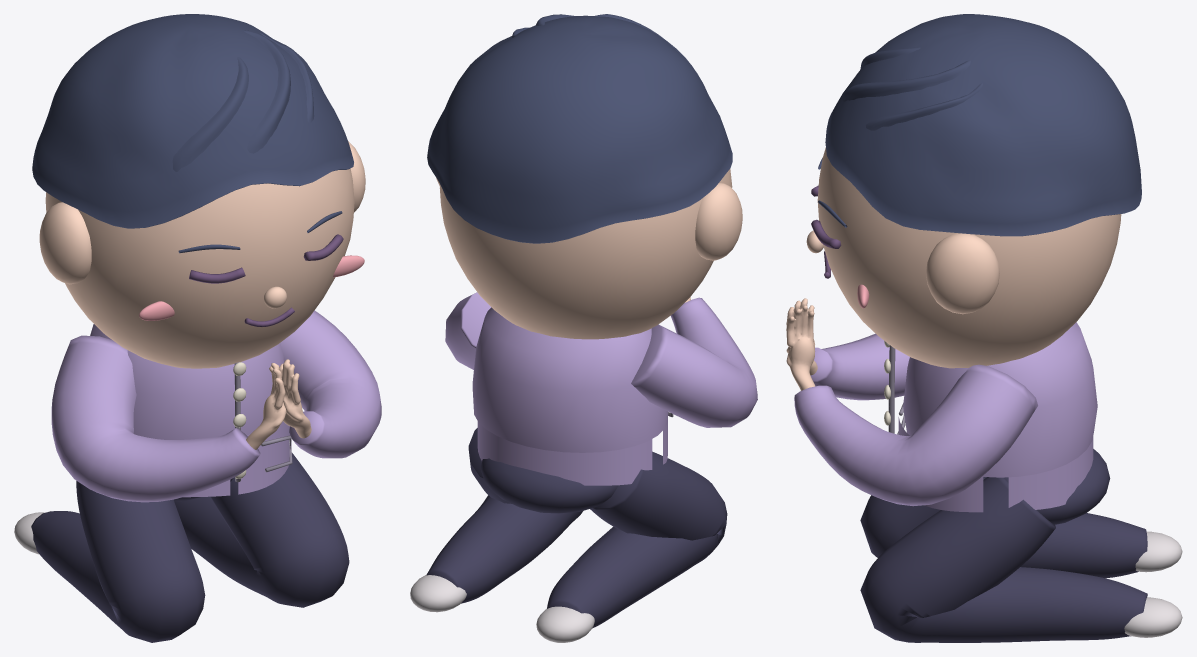
File: meditator_male_kneel_prayer_undercut_p07a.glb
3 renders of one model, left to right at view 1: azimuth 30°, elevation 25°; view 2: azimuth 150°, elevation 25°; view 3: azimuth 270°, elevation 25°, orthographic. The views are drawn at different scales.
Visible parts, largest first — view 1: hair_neat_male_gentle_undercut_p07a_object, skin_rose_cream_UpperBodyBreath_object, ao_ba_ba_top_UpperBodyBreath_object, ao_ba_ba_pants_SeatRoot_object, eyes_mauve_UpperBodyBreath_object, skin_blush_UpperBodyBreath_object, sandal_trim_SeatRoot_object, ao_ba_ba_placket_UpperBodyBreath_object; view 2: hair_neat_male_gentle_undercut_p07a_object, ao_ba_ba_top_UpperBodyBreath_object, ao_ba_ba_pants_SeatRoot_object, skin_rose_cream_UpperBodyBreath_object, sandal_trim_SeatRoot_object; view 3: hair_neat_male_gentle_undercut_p07a_object, ao_ba_ba_top_UpperBodyBreath_object, ao_ba_ba_pants_SeatRoot_object, skin_rose_cream_UpperBodyBreath_object, sandal_trim_SeatRoot_object, ao_ba_ba_placket_UpperBodyBreath_object, eyes_mauve_UpperBodyBreath_object.
Part boxes in pixels (<box>): hair_neat_male_gentle_undercut_p07a_object: <box>32,14,353,253</box>; skin_rose_cream_UpperBodyBreath_object: <box>39,141,365,449</box>; ao_ba_ba_top_UpperBodyBreath_object: <box>51,310,381,502</box>; ao_ba_ba_pants_SeatRoot_object: <box>31,453,349,642</box>; eyes_mauve_UpperBodyBreath_object: <box>189,234,343,326</box>; skin_blush_UpperBodyBreath_object: <box>139,255,364,320</box>; sandal_trim_SeatRoot_object: <box>14,512,44,554</box>; ao_ba_ba_placket_UpperBodyBreath_object: <box>234,362,292,482</box>; hair_neat_male_gentle_undercut_p07a_object: <box>427,14,732,243</box>; ao_ba_ba_top_UpperBodyBreath_object: <box>445,292,757,485</box>; ao_ba_ba_pants_SeatRoot_object: <box>426,428,727,628</box>; skin_rose_cream_UpperBodyBreath_object: <box>436,169,742,339</box>; sandal_trim_SeatRoot_object: <box>410,575,594,642</box>; hair_neat_male_gentle_undercut_p07a_object: <box>818,14,1141,236</box>; ao_ba_ba_top_UpperBodyBreath_object: <box>794,322,1097,512</box>; ao_ba_ba_pants_SeatRoot_object: <box>860,449,1147,642</box>; skin_rose_cream_UpperBodyBreath_object: <box>786,147,1121,390</box>; sandal_trim_SeatRoot_object: <box>1124,531,1182,637</box>; ao_ba_ba_placket_UpperBodyBreath_object: <box>888,345,905,434</box>; eyes_mauve_UpperBodyBreath_object: <box>811,185,841,278</box>.
Size of the model in its own units: 0.672 by 1.17 by 0.7285.
